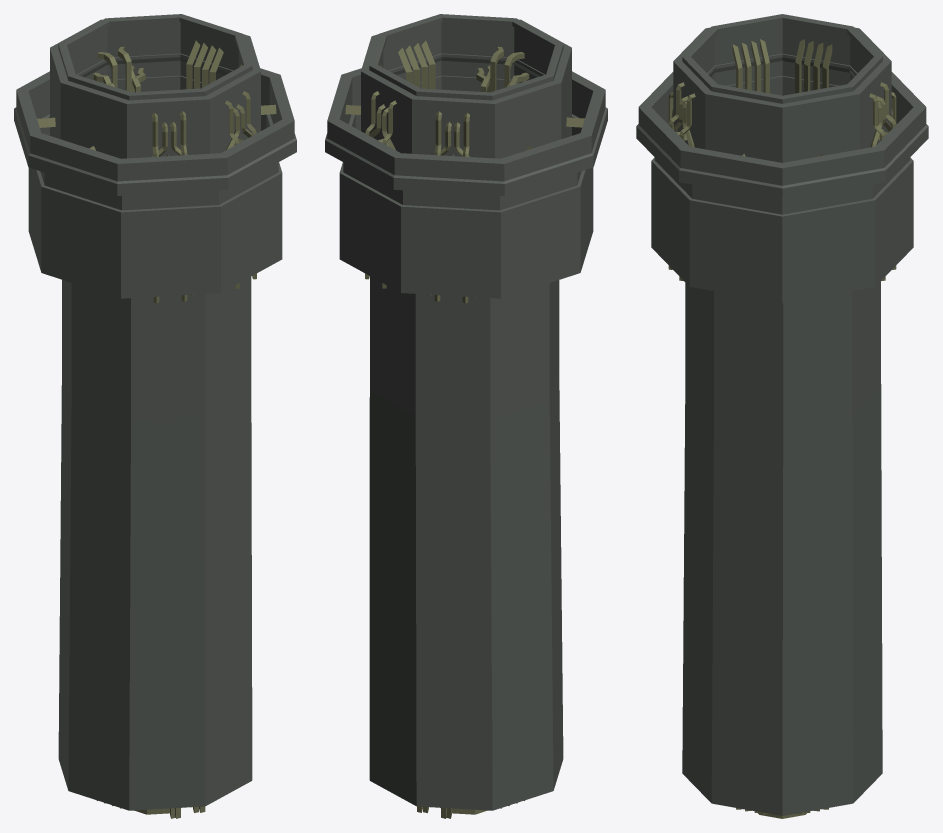
File: nb_reactor.fbx
3 views of the same model, side by side, from view 1: azimuth 30°, elevation 25°; view 2: azimuth 150°, elevation 25°; view 3: azimuth 270°, elevation 25° (orthographic).
Visible parts, largest first — view 1: reactor; view 2: reactor; view 3: reactor.
Part boxes in pixels (<box>): reactor: <box>14,14,296,818</box>; reactor: <box>325,14,607,818</box>; reactor: <box>636,14,928,818</box>.
Size of the model in its own units: 5.6 by 15.72 by 5.57.
